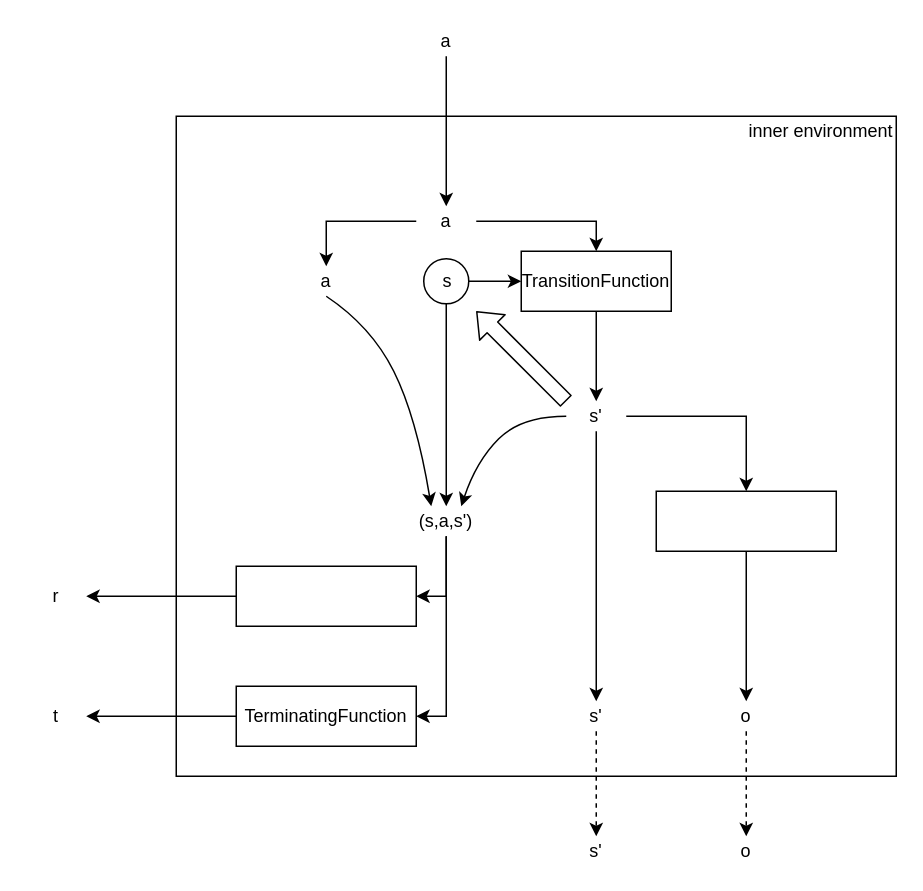
The diagram is 923 pixels wide and 891 high, and some of its shapes have lost their labels. The centre of each missing label's shape, as x and y in pixels:
"ObservationFunction" belongs at (x=745, y=520).
"RewardFunction" belongs at (x=325, y=595).
